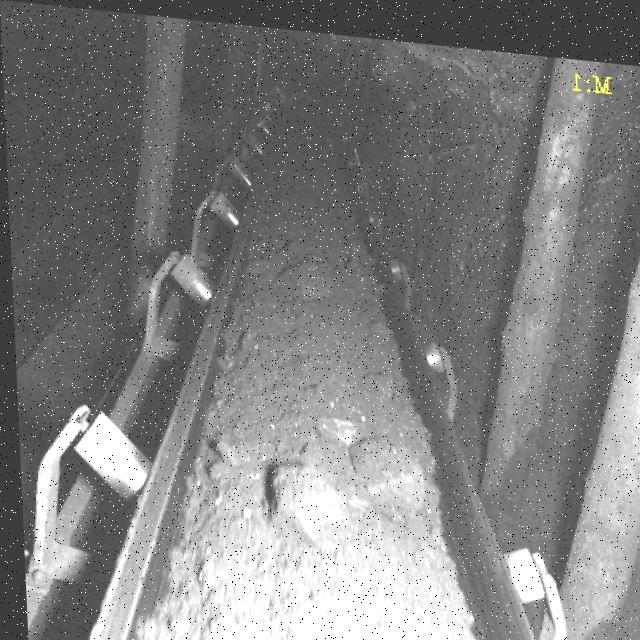large_sized_coal: (262, 455, 346, 538), (346, 425, 420, 500), (275, 252, 334, 300), (312, 402, 361, 442)
